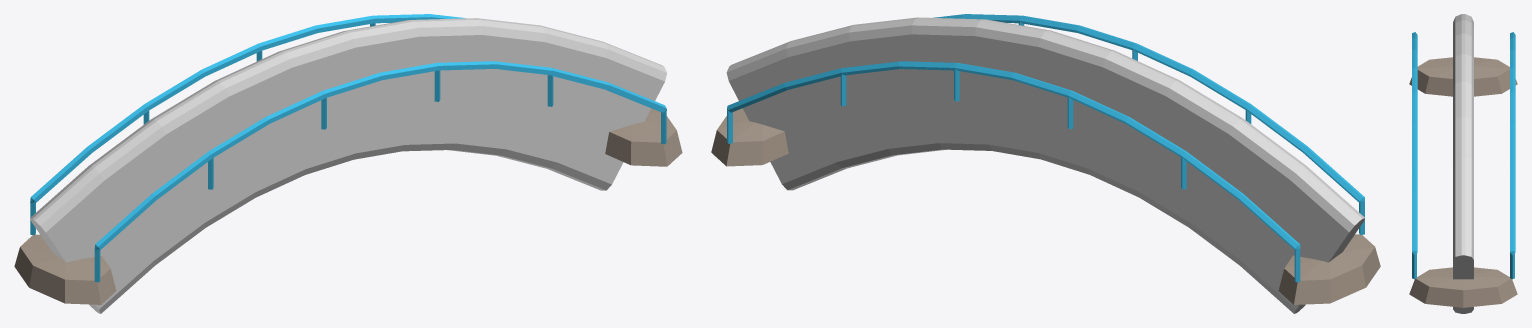
Rendered from bridge_arch.obj.
3 renders of one model, left to right at view 1: azimuth 30°, elevation 25°; view 2: azimuth 150°, elevation 25°; view 3: azimuth 270°, elevation 25°, orthographic. The views are drawn at different scales.
Bounding box in the file's own units: 15.8 × 5.18 × 3.06.
